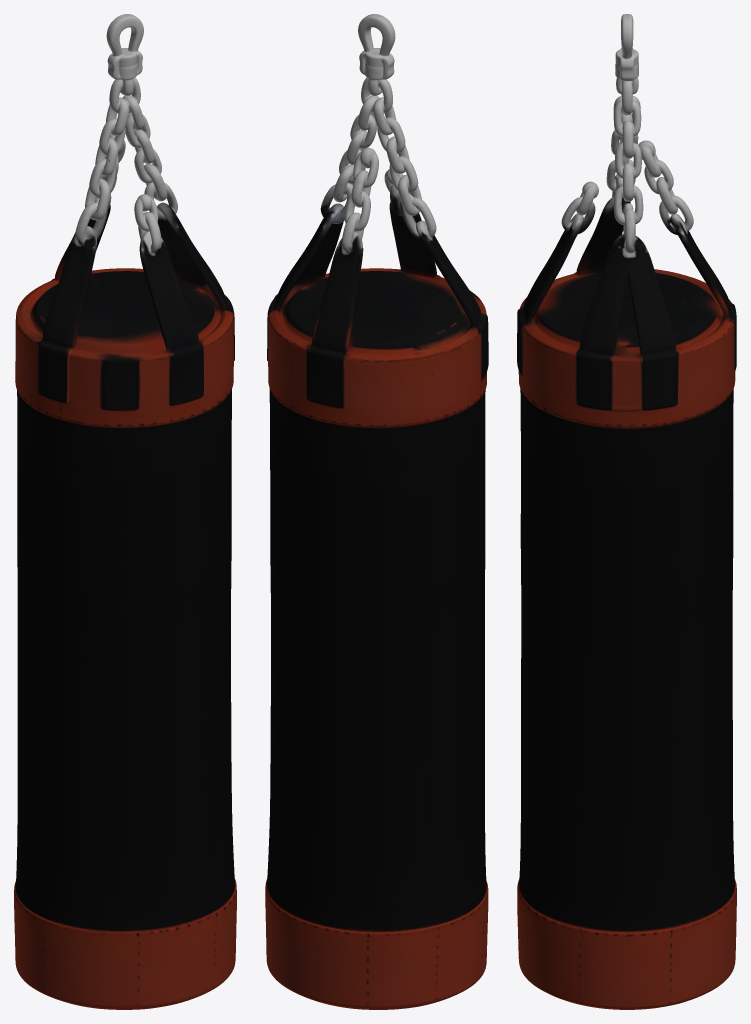
The model's file is heavy_bag_long__hunyuan.glb.
The picture shows the model from 3 angles, left to right: view 1: azimuth 30°, elevation 25°; view 2: azimuth 150°, elevation 25°; view 3: azimuth 270°, elevation 25°; orthographic projection.
Visible parts, largest first — view 1: material; view 2: material; view 3: material.
Boxes of the visible parts, x1,y1,x2,y2 form: material: (14, 14, 236, 1009); material: (265, 14, 488, 1009); material: (517, 14, 736, 1009).
Bounding box in the file's own units: 0.2522 × 1.18 × 0.2472.
1 material, 1 textured.
